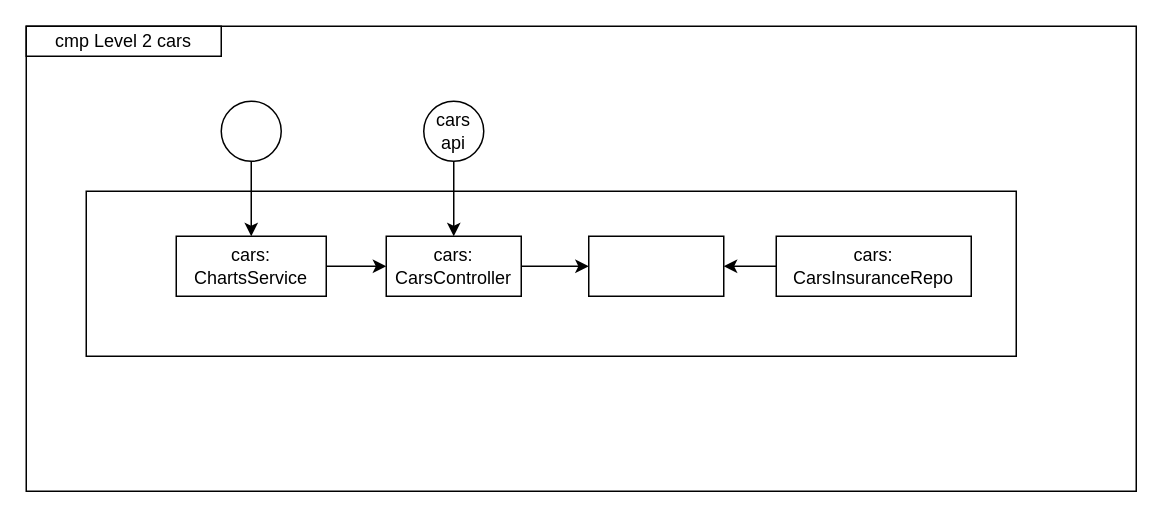
Some shapes in this 1163 by 518 pixel diagram are drawn without their labels. Here are the shapes that lost their labels. From the top down, the centre of each, then its label:
the point at 250,130: charts api
the point at 655,265: cars: CarsRepository
